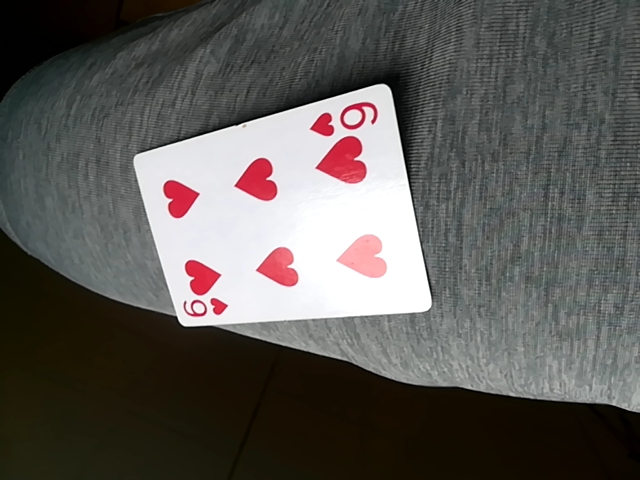hx 6: (136, 82, 432, 330)
